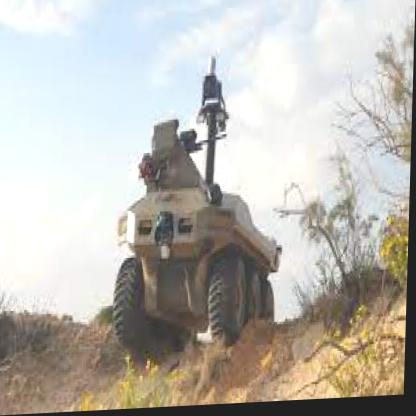UGV: (114, 186, 285, 349)
